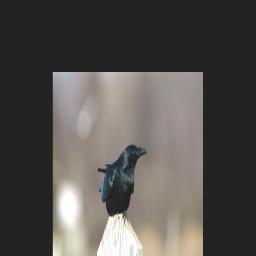Crow: (98, 144, 147, 223)
